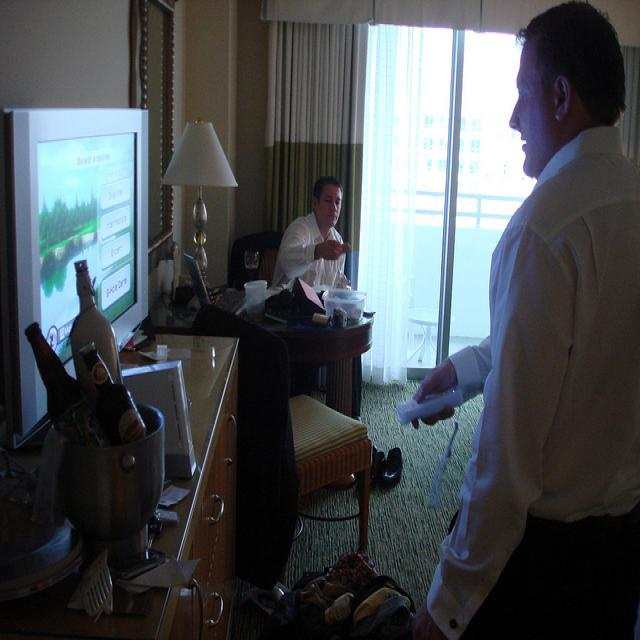Bottle: (17, 296, 90, 457), (78, 359, 155, 490), (74, 255, 123, 390)
People: (456, 0, 640, 631), (282, 162, 354, 329)
Table: (0, 315, 270, 640), (229, 260, 372, 414)
chair: (244, 346, 384, 575)
